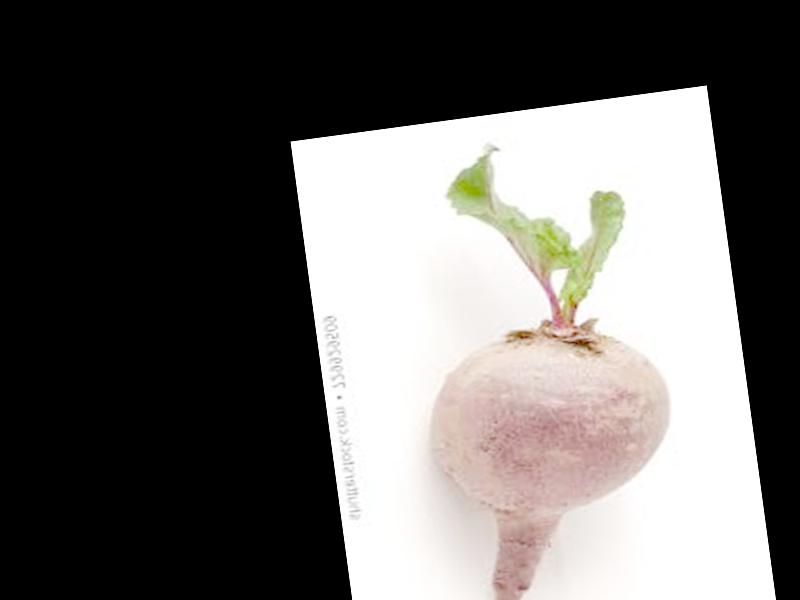Beet: (394, 124, 695, 600)
